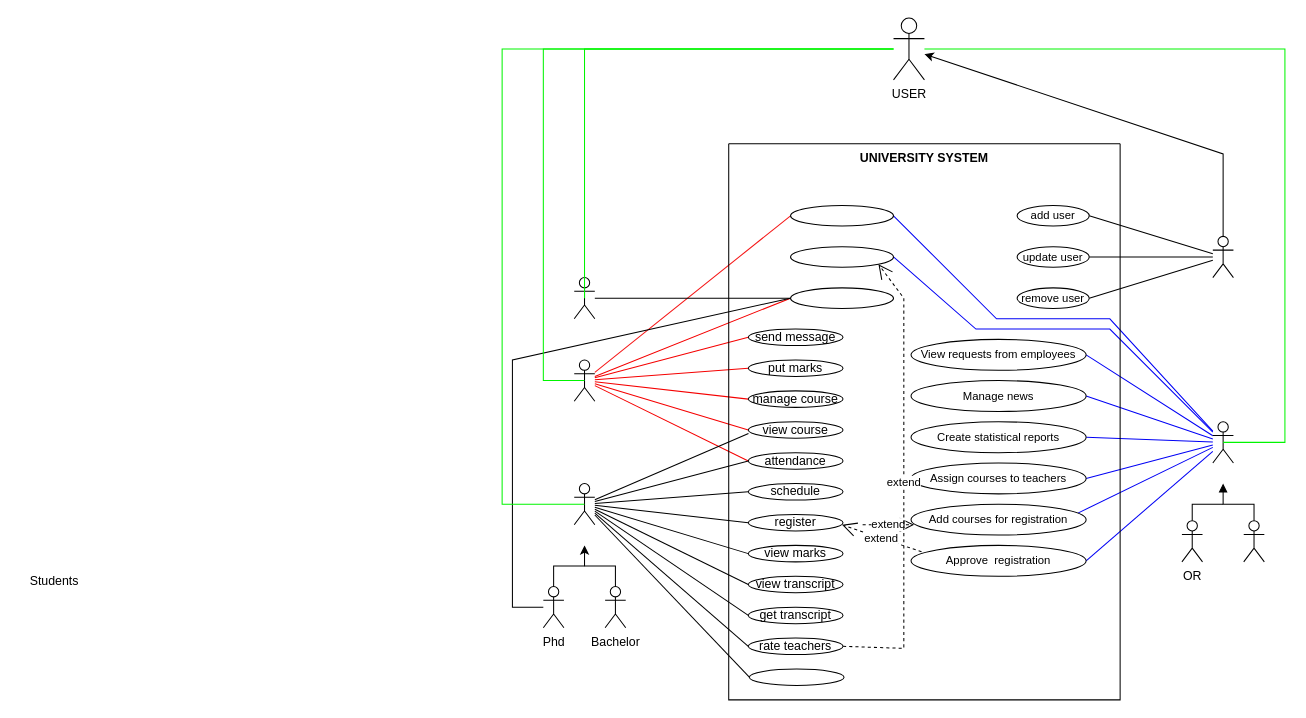
Image size: 1306x718. Some labels were removed from this diagram. Here are the shapes that lost their labels. From the top down, the centre of each, then its label:
At pixel 841 215: "students info".
At pixel 841 256: "teacher info".
At pixel 1222 256: "Admin".
At pixel 584 298: "Resercher".
At pixel 841 297: "make a reserch".
At pixel 584 380: "Teacher".
At pixel 1222 442: "Manager".
At pixel 584 504: "Student".
At pixel 1253 541: "Deans office".
At pixel 796 676: "stud. org.".
